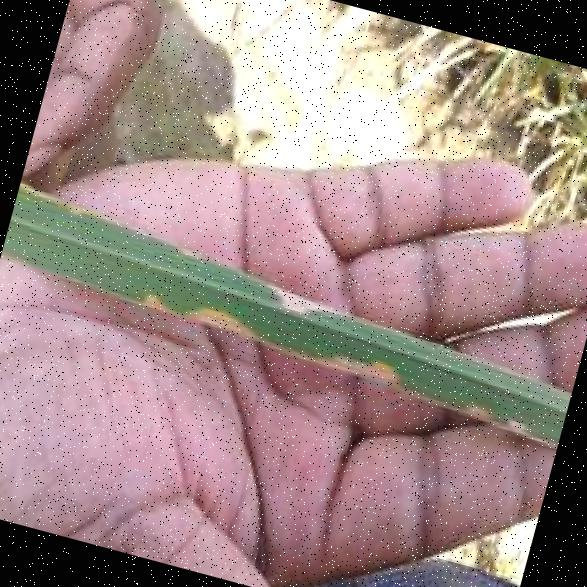Bacteria_Leaf_Blight: (108, 268, 542, 448), (11, 169, 403, 347)
